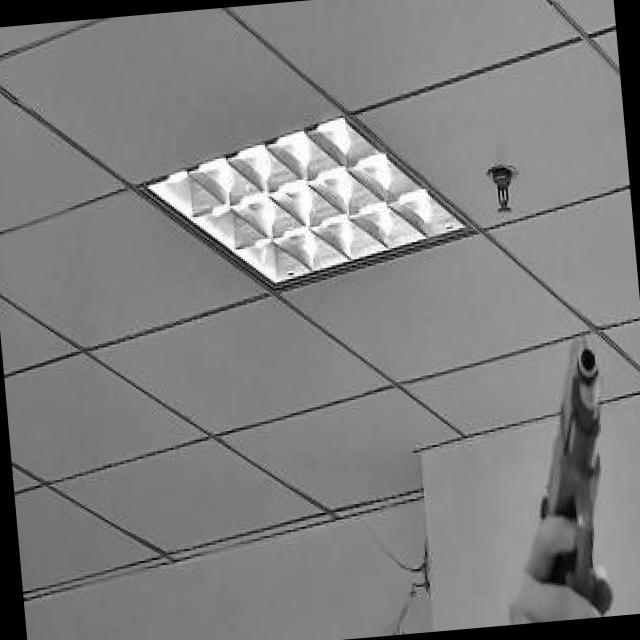Guns: (465, 317, 640, 626)
